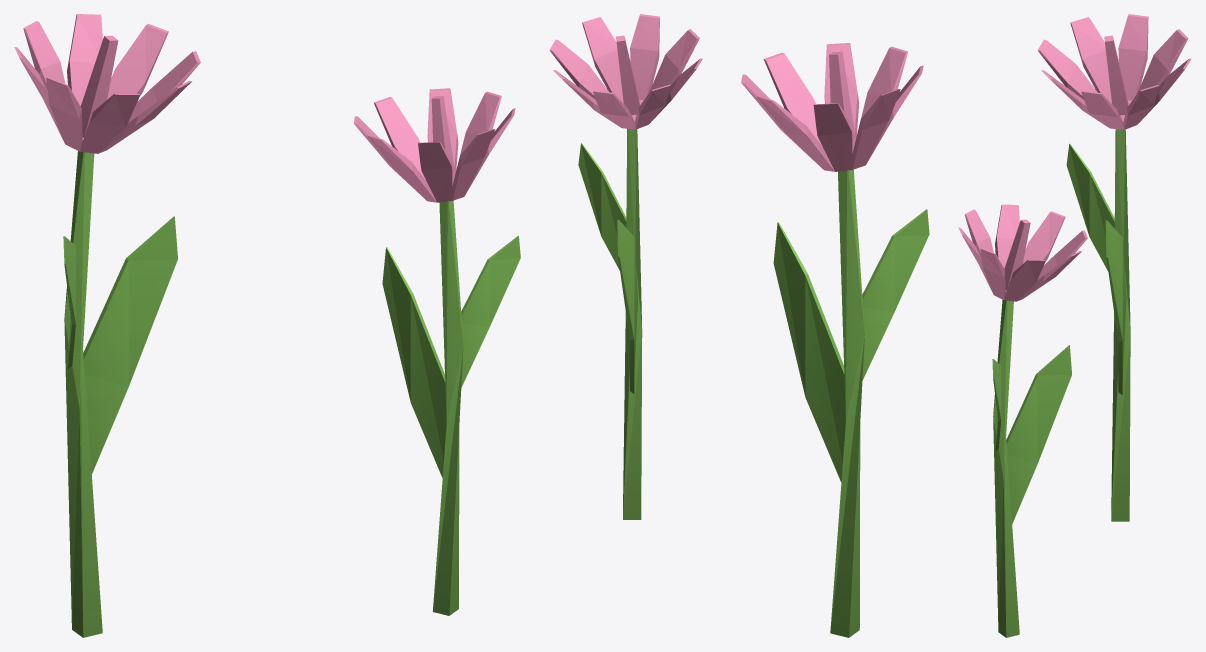
Rendered from flower_tulip.glb.
3 renders of one model, left to right at view 1: azimuth 30°, elevation 25°; view 2: azimuth 150°, elevation 25°; view 3: azimuth 270°, elevation 25°, orthographic. The views are drawn at different scales.
Visible parts, largest first — view 1: Flower 3_1_A; view 2: Flower 3_1_A; view 3: Flower 3_1_A.
Part boxes in pixels (x1,y1,x2,y2): Flower 3_1_A: [14, 14, 520, 637]; Flower 3_1_A: [549, 14, 929, 637]; Flower 3_1_A: [958, 14, 1191, 637].
Bounding box in the file's own units: 0.2813 × 0.38 × 0.1652.
Materials: 1 (1 with a texture image).
